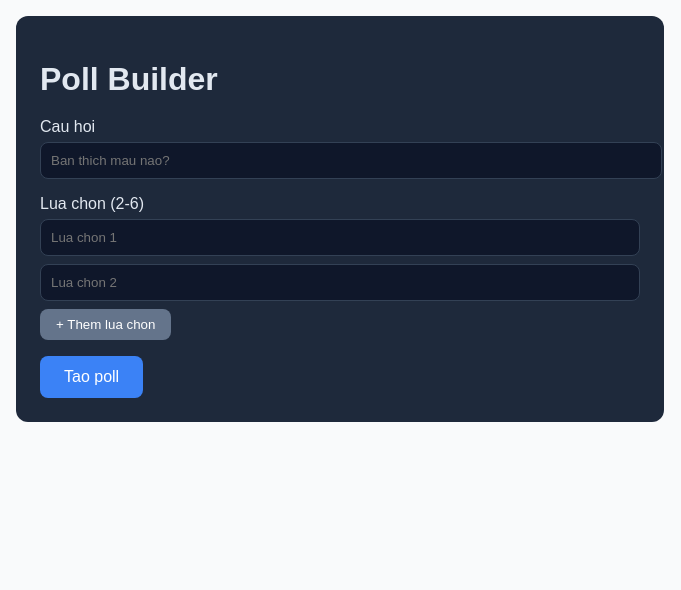
Test case: CreatePoll › thêm được lựa chọn mới, tối đa 6
Click the button "+ Them lua chon" at {"x": 106, "y": 325}, box [40, 309, 171, 340]
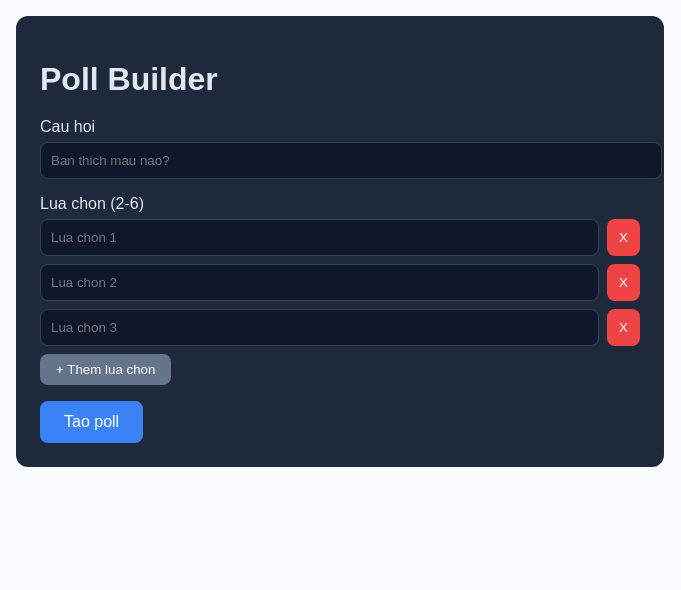
Click the button "+ Them lua chon" at {"x": 106, "y": 370}, box [40, 354, 171, 385]
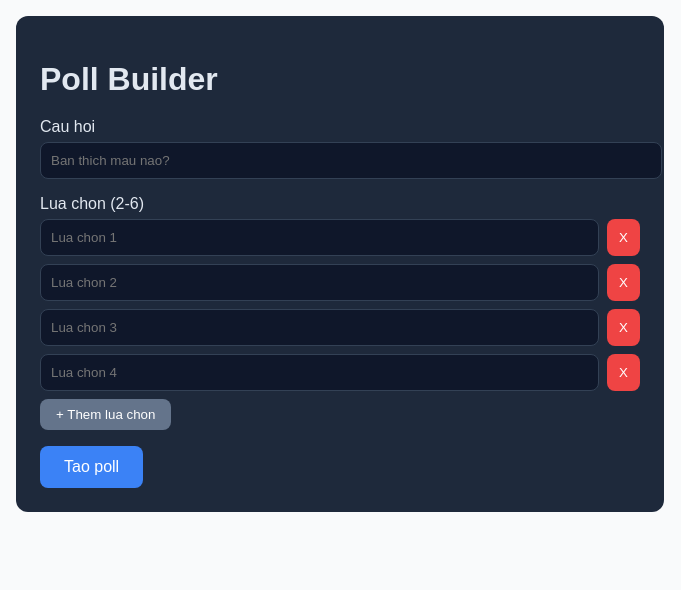
Click the button "+ Them lua chon" at {"x": 106, "y": 415}, box [40, 399, 171, 430]
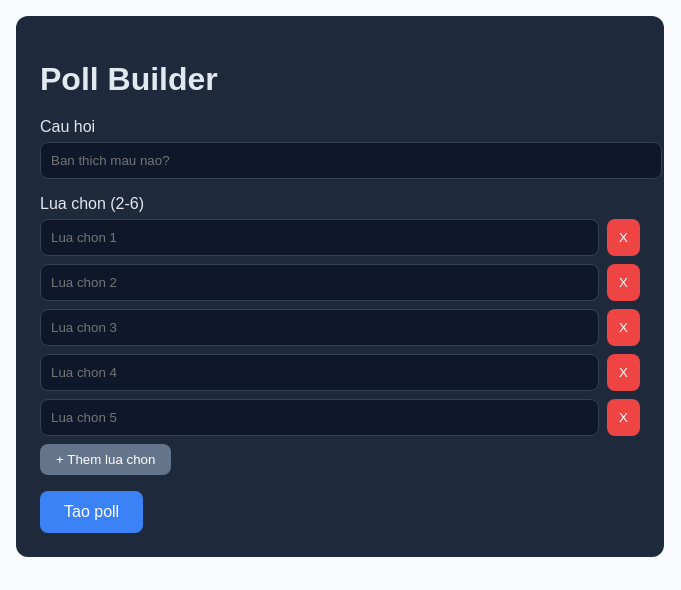
Click the button "+ Them lua chon" at {"x": 106, "y": 460}, box [40, 444, 171, 475]
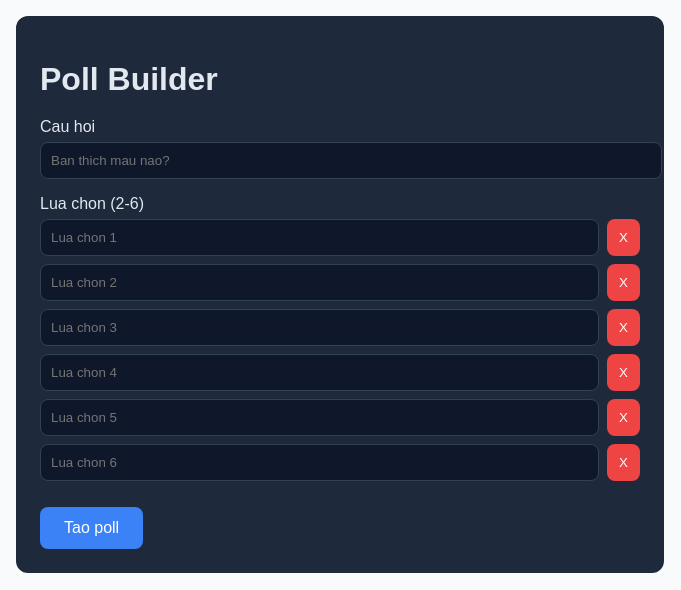
Result: the number of fields is 7
